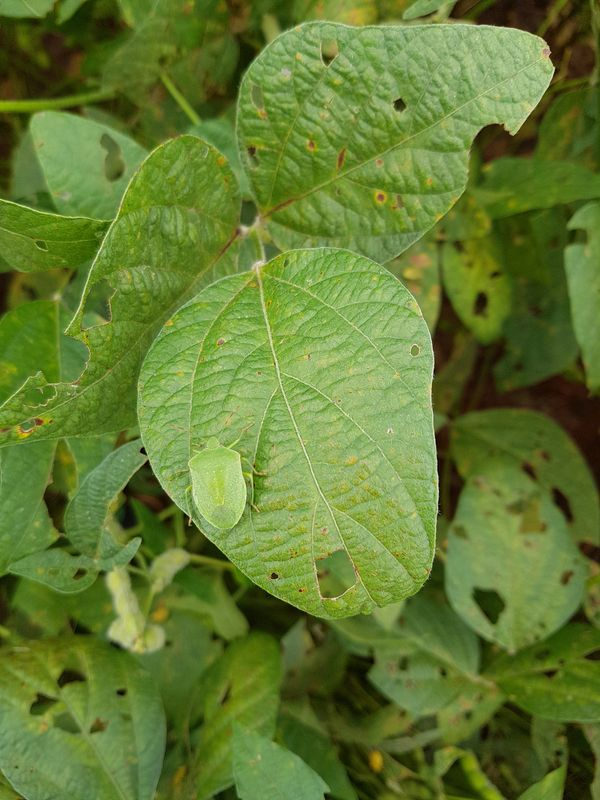Nezara_viridula_adulto: (168, 423, 279, 548)
